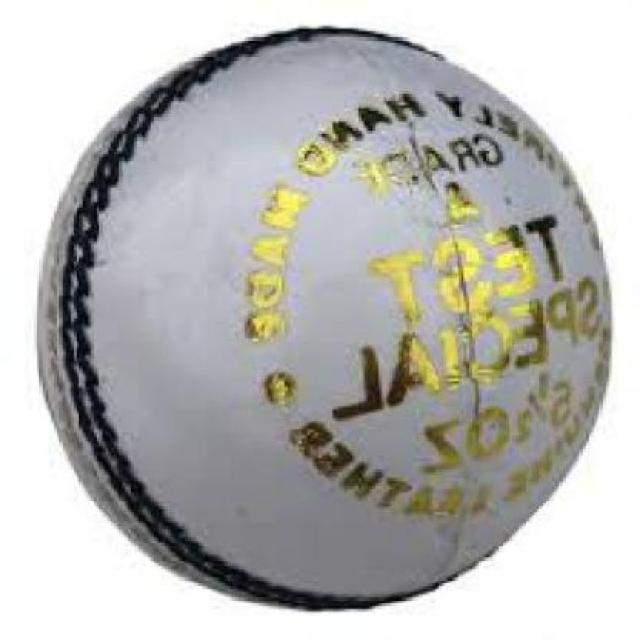ball: (0, 17, 635, 606)
